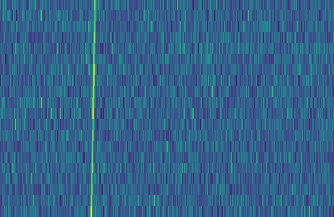signal: (84, 0, 97, 217)
